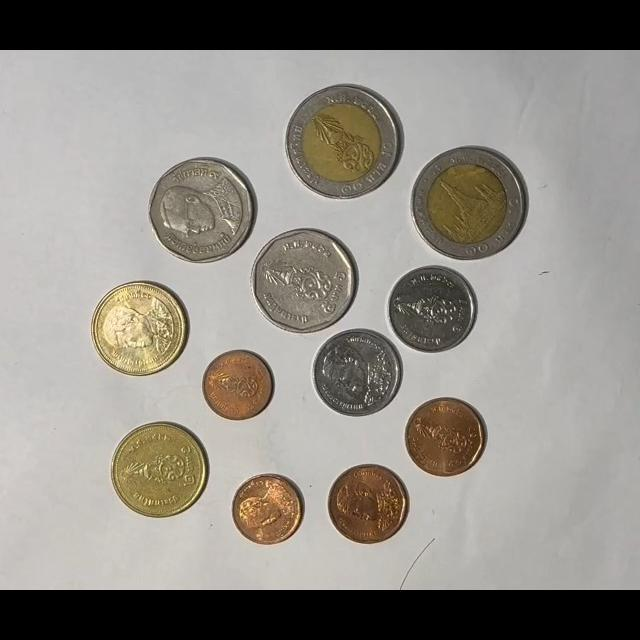1-baht: (387, 264, 477, 354), (312, 329, 402, 418)
10-baht: (285, 84, 404, 202), (411, 145, 527, 260)
2-baht: (111, 422, 209, 519), (91, 281, 186, 377)
25-satang: (231, 473, 305, 546), (202, 349, 274, 421)
5-baht: (250, 227, 357, 335), (148, 158, 256, 264)
50-satang: (328, 464, 409, 545), (405, 397, 487, 477)
